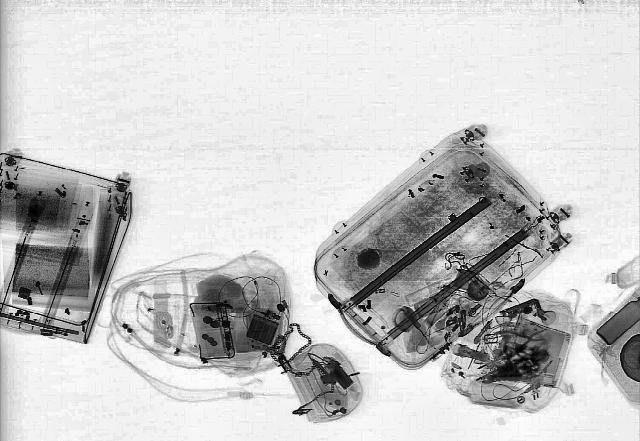Pliers: (482, 321, 558, 361)
